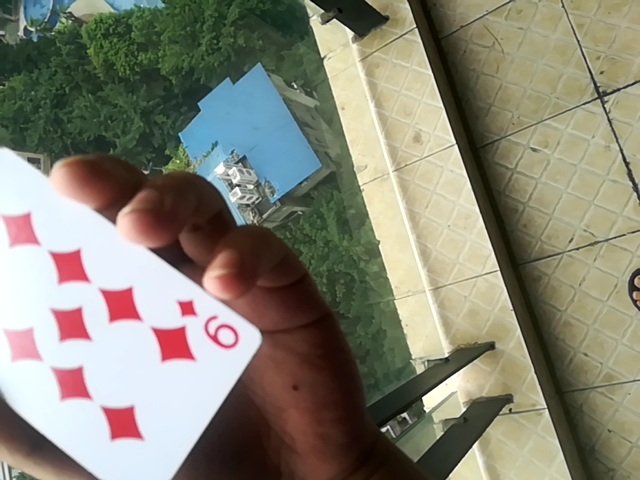fk 9: (6, 128, 259, 480)
